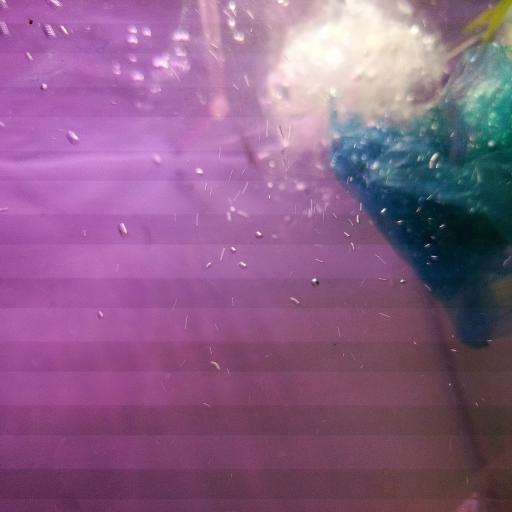plastic_bag: (0, 0, 446, 358), (328, 38, 512, 351)
